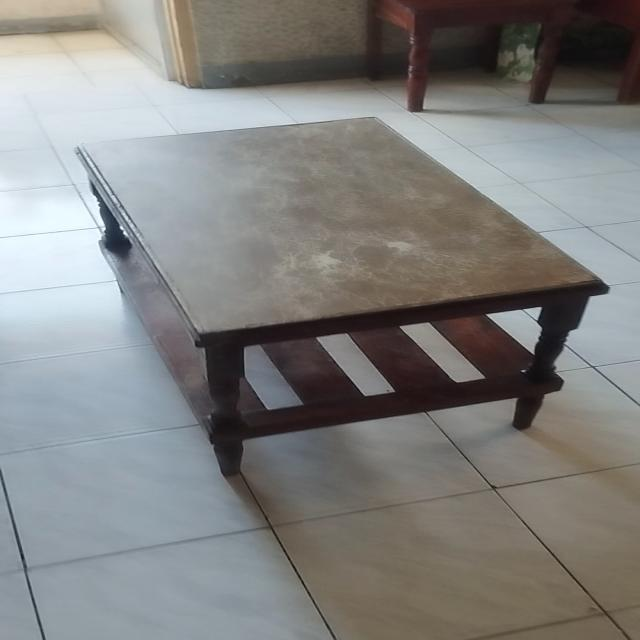table: (74, 114, 600, 473)
